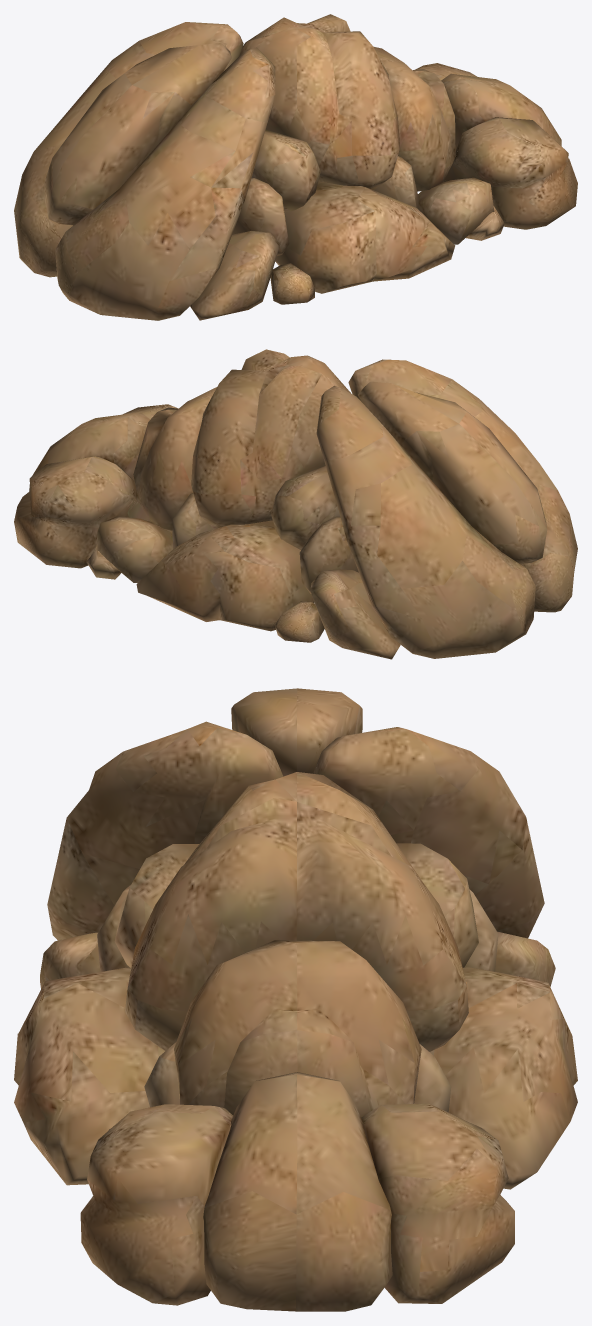
The model's file is RockFormation3_ST-optimized.glb.
The picture shows the model from 3 angles, top to bottom: view 1: azimuth 30°, elevation 25°; view 2: azimuth 150°, elevation 25°; view 3: azimuth 270°, elevation 25°; orthographic projection. The views are drawn at different scales.
Parts seen in each view (by area): view 1: mesh_node; view 2: mesh_node; view 3: mesh_node.
Boxes of the visible parts, box(x1,y1,x2,y2) form: mesh_node: box(14, 14, 577, 320); mesh_node: box(14, 349, 577, 659); mesh_node: box(14, 688, 577, 1311).
Bounding box in the file's own units: 2 × 0.8008 × 1.19.
Materials: 1 (1 with a texture image).
